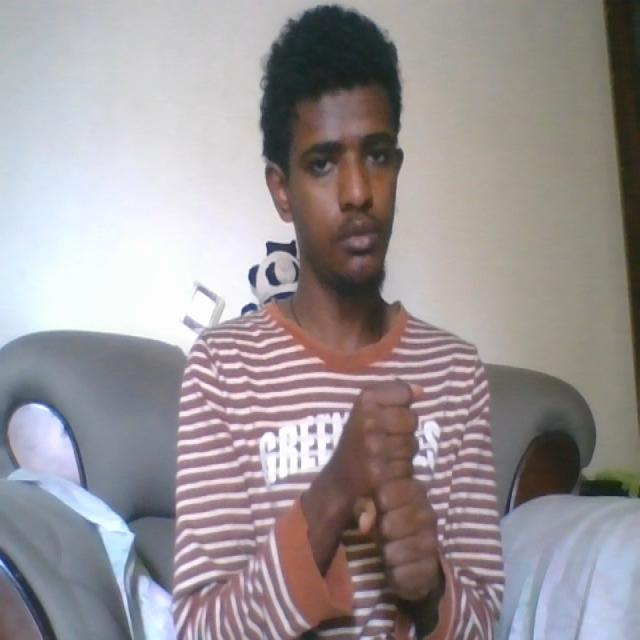meqebel: (336, 377, 444, 608)
